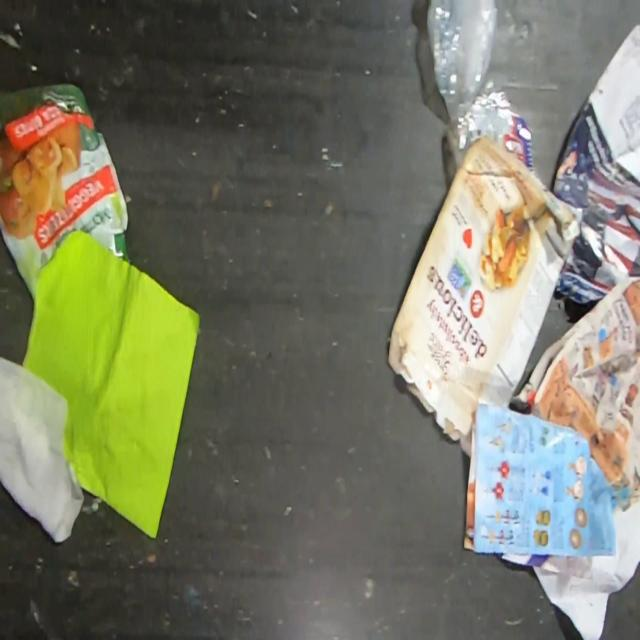cardboard: (387, 134, 582, 442)
rigid_plastic: (426, 0, 517, 169)
soft_plastic: (0, 84, 130, 308)
